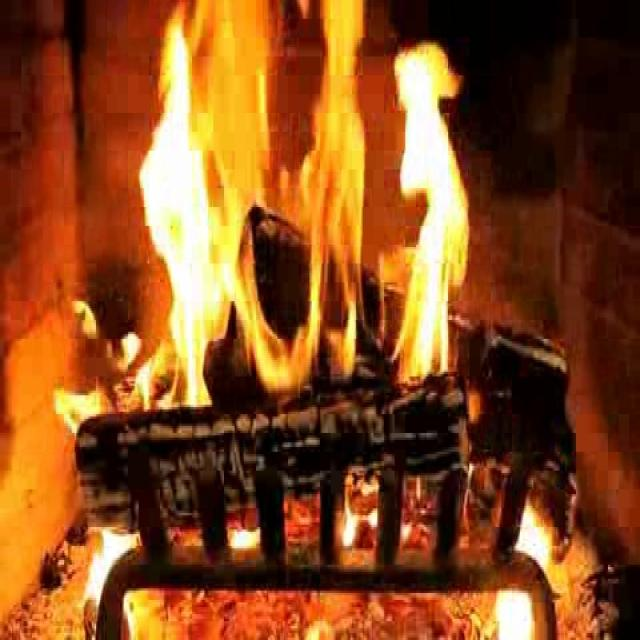fire: (142, 3, 472, 403)
